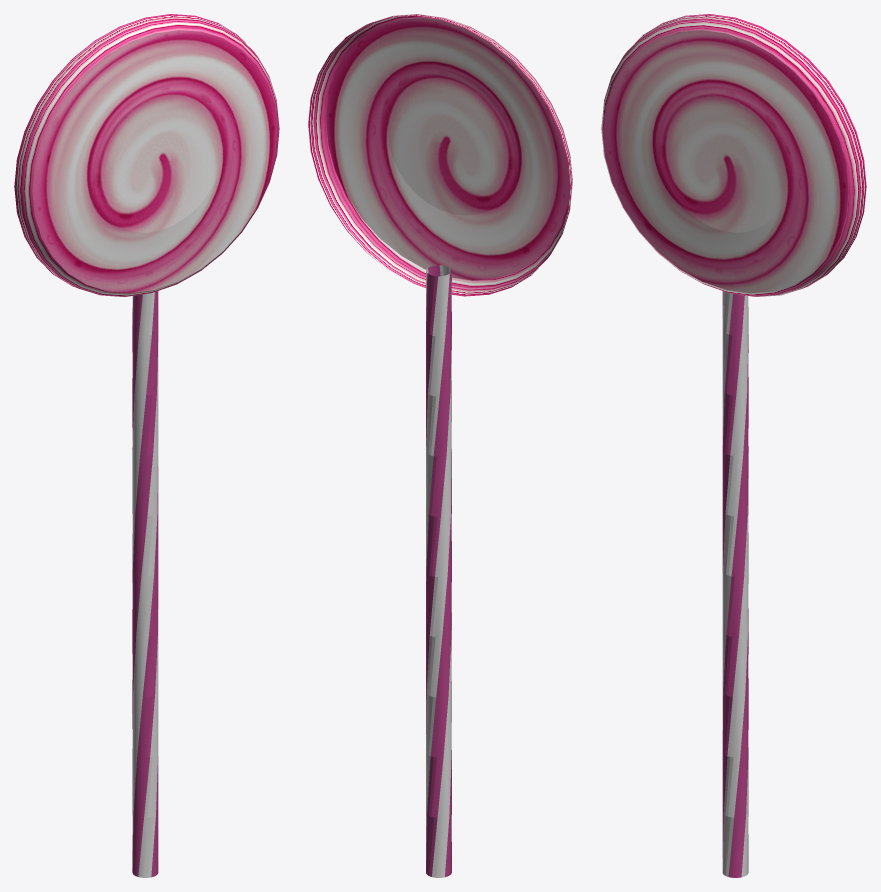
The model's file is HalfPinkStick.fbx.
The picture shows the model from 3 angles, left to right: view 1: azimuth 30°, elevation 25°; view 2: azimuth 150°, elevation 25°; view 3: azimuth 330°, elevation 25°; orthographic projection.
Visible parts, largest first — view 1: CombinedPinkStick; view 2: CombinedPinkStick; view 3: CombinedPinkStick.
Boxes of the visible parts, x1=… form: CombinedPinkStick: x1=14, y1=14, x2=279, y2=877; CombinedPinkStick: x1=308, y1=14, x2=572, y2=877; CombinedPinkStick: x1=601, y1=14, x2=866, y2=877.
Size of the model in its own units: 206 by 642 by 26.16.
Materials: 3 (1 with a texture image).
